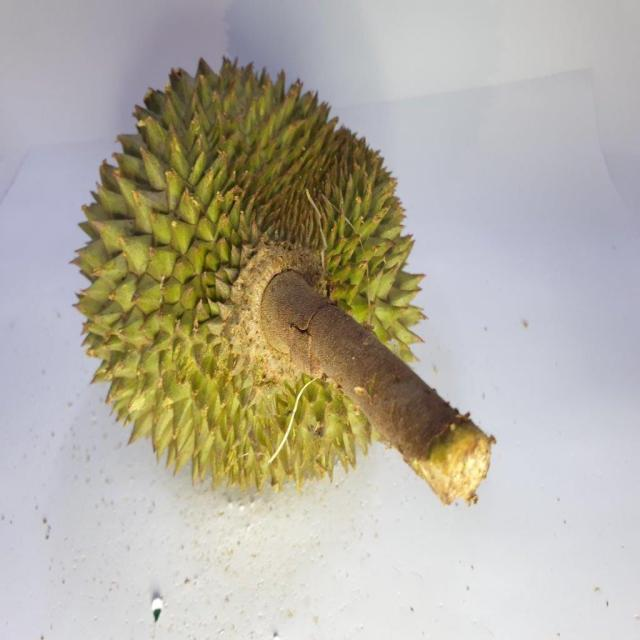immature: (68, 55, 427, 498)
